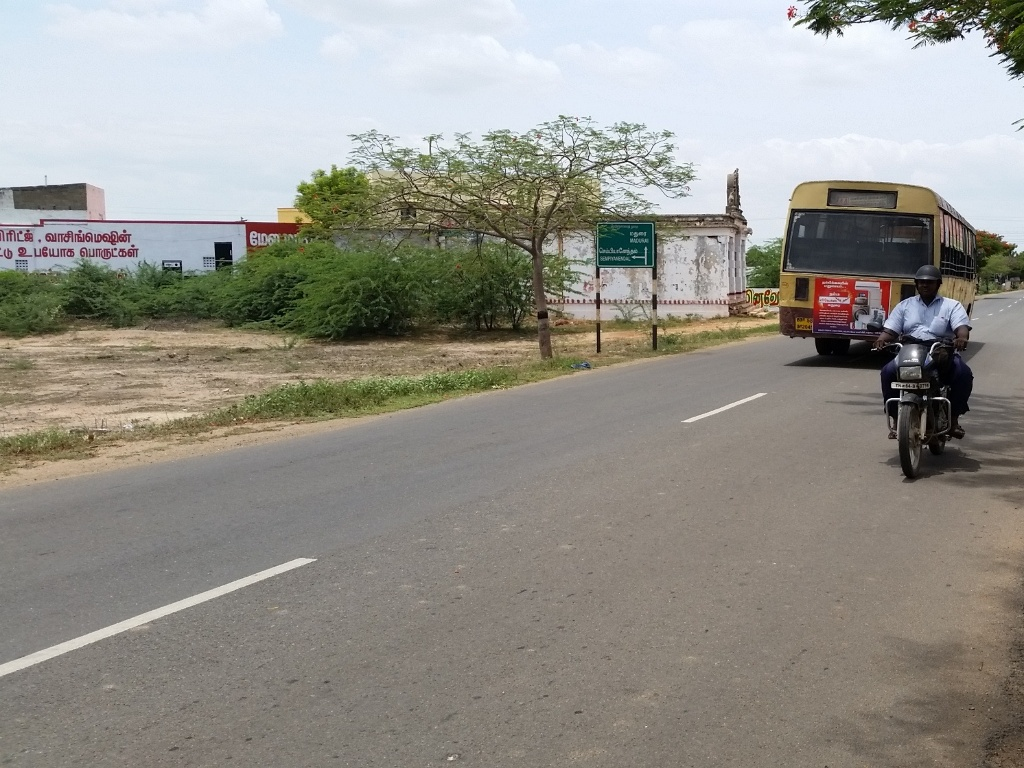biker: (847, 239, 1003, 495)
helmet: (908, 258, 949, 310)
